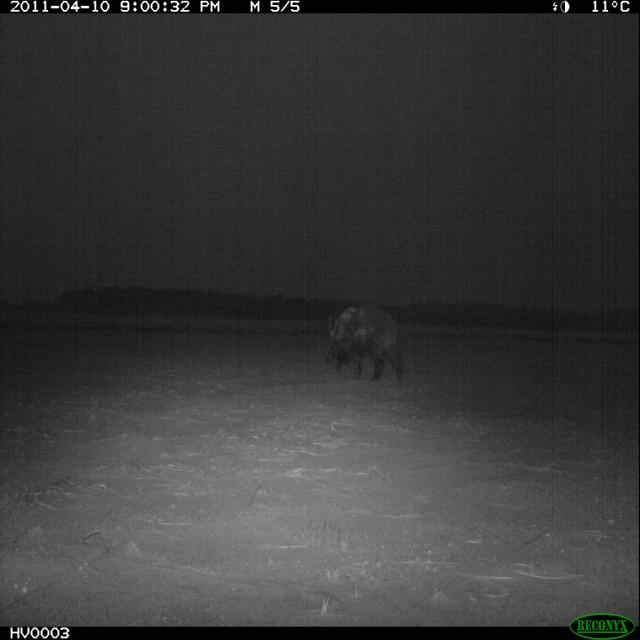boar: (311, 277, 420, 405)
